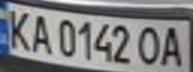0: (54, 16, 78, 57)
1: (72, 18, 93, 61)
2: (109, 20, 136, 65)
4: (90, 19, 115, 63)
A: (157, 22, 187, 69), (27, 11, 54, 54)
K: (3, 6, 36, 52)
O: (133, 23, 163, 66)
